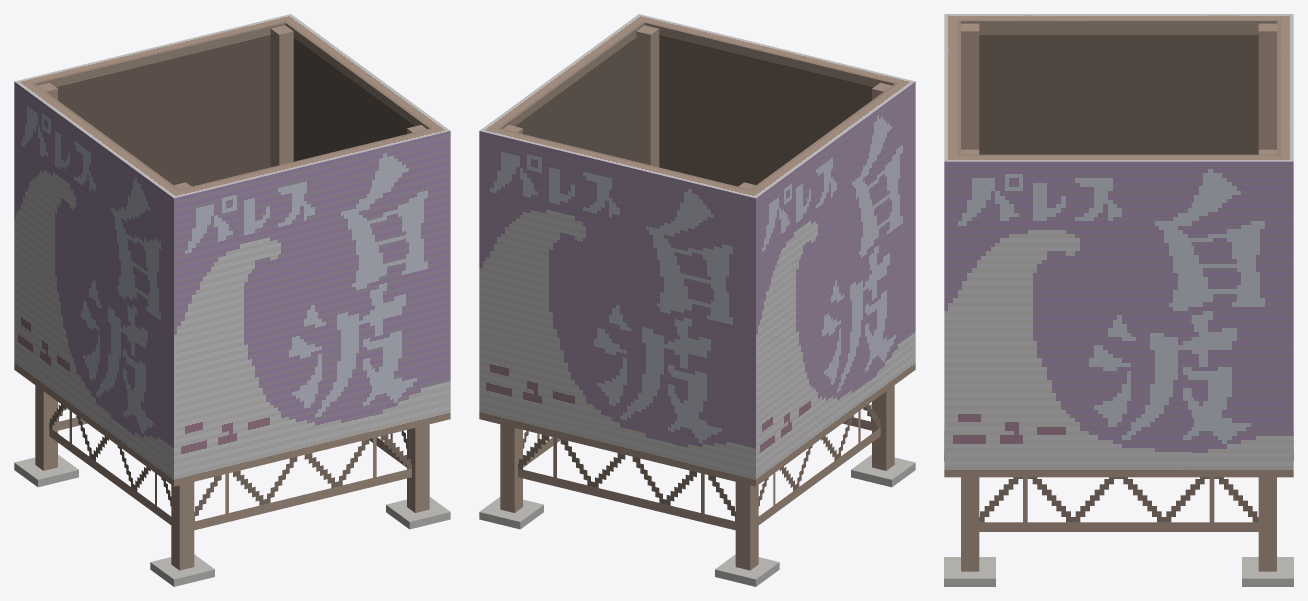
The model's file is 0562_New_Hotel_Sign.glb.
3 renders of one model, left to right at view 1: azimuth 30°, elevation 25°; view 2: azimuth 150°, elevation 25°; view 3: azimuth 270°, elevation 25°, orthographic. The views are drawn at different scales.
Visible parts, largest first — view 1: part_0; view 2: part_0; view 3: part_0.
Part boxes in pixels (x1,y1,x2,y2): part_0: (14,14,450,586); part_0: (479,14,915,586); part_0: (944,14,1293,586).
Bounding box in the file's own units: 2.97 × 3.98 × 2.97.
1 material, 1 textured.
